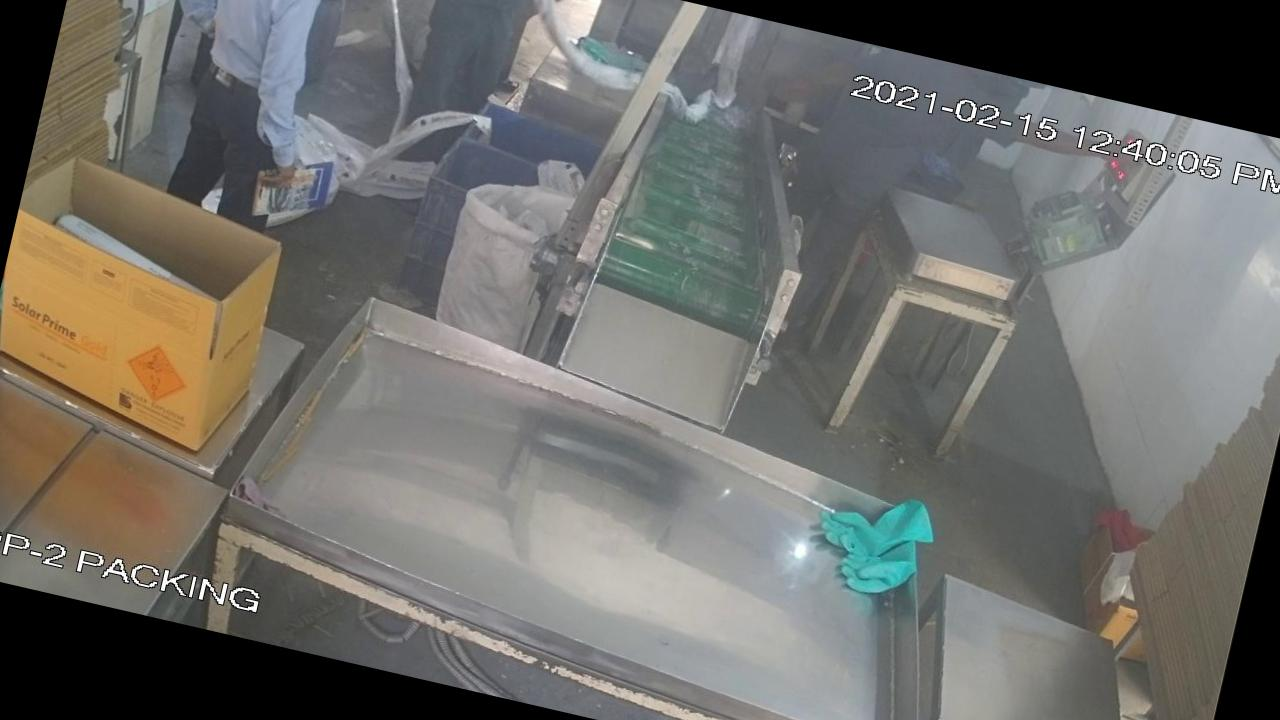Gloves: (792, 466, 952, 615)
No-gloves: (229, 0, 356, 195)
